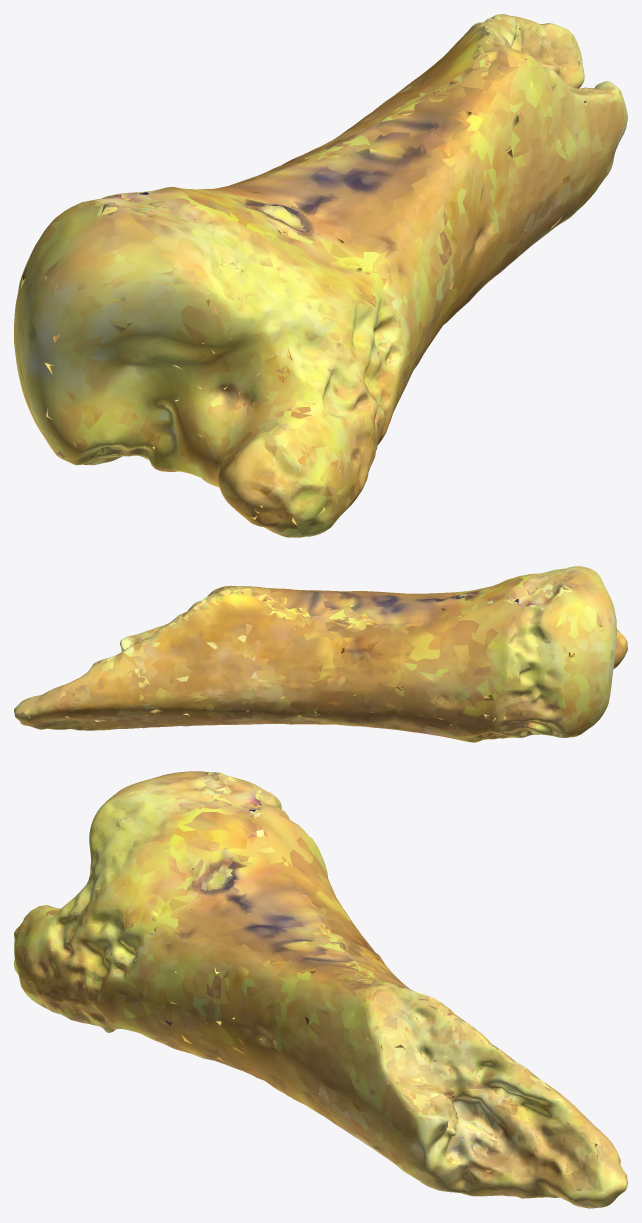
The model's file is bone123.obj.
3 renders of one model, top to bottom at view 1: azimuth 30°, elevation 25°; view 2: azimuth 150°, elevation 25°; view 3: azimuth 270°, elevation 25°, orthographic. The views are drawn at different scales.
Visible parts, largest first — view 1: bone123; view 2: bone123; view 3: bone123.
Part boxes in pixels (bbox=[...]): bone123: bbox=[14, 14, 627, 537]; bone123: bbox=[14, 566, 627, 742]; bone123: bbox=[14, 771, 627, 1208].
Size of the model in its own units: 75.15 by 24.29 by 65.93.
30 materials, 30 textured.
